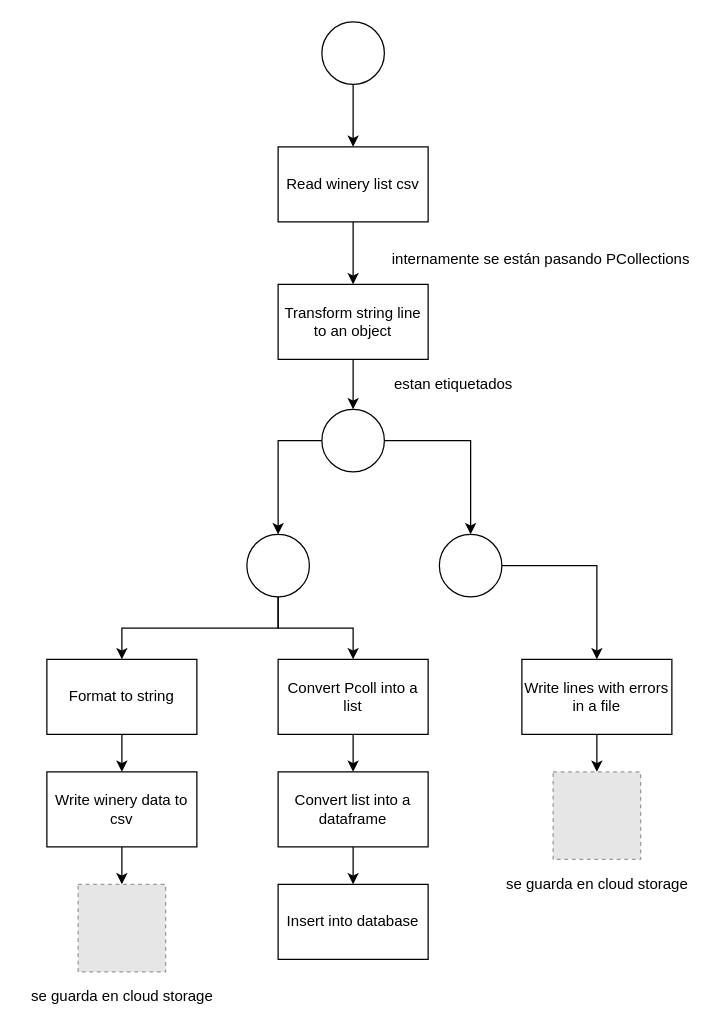
The diagram is 718 pixels wide and 1031 high, and some of its shapes have lost their labels. Grey dashed boxes stand in for pictures. The shapes that lost their labels are listed below. From the top down, each one's centre as x and y in pixels, then its label:
the point at 352,52: PColl Inicial
the point at 352,440: PColl data
the point at 277,565: PColl data.formated_pcoll
the point at 470,565: PColl data.error
